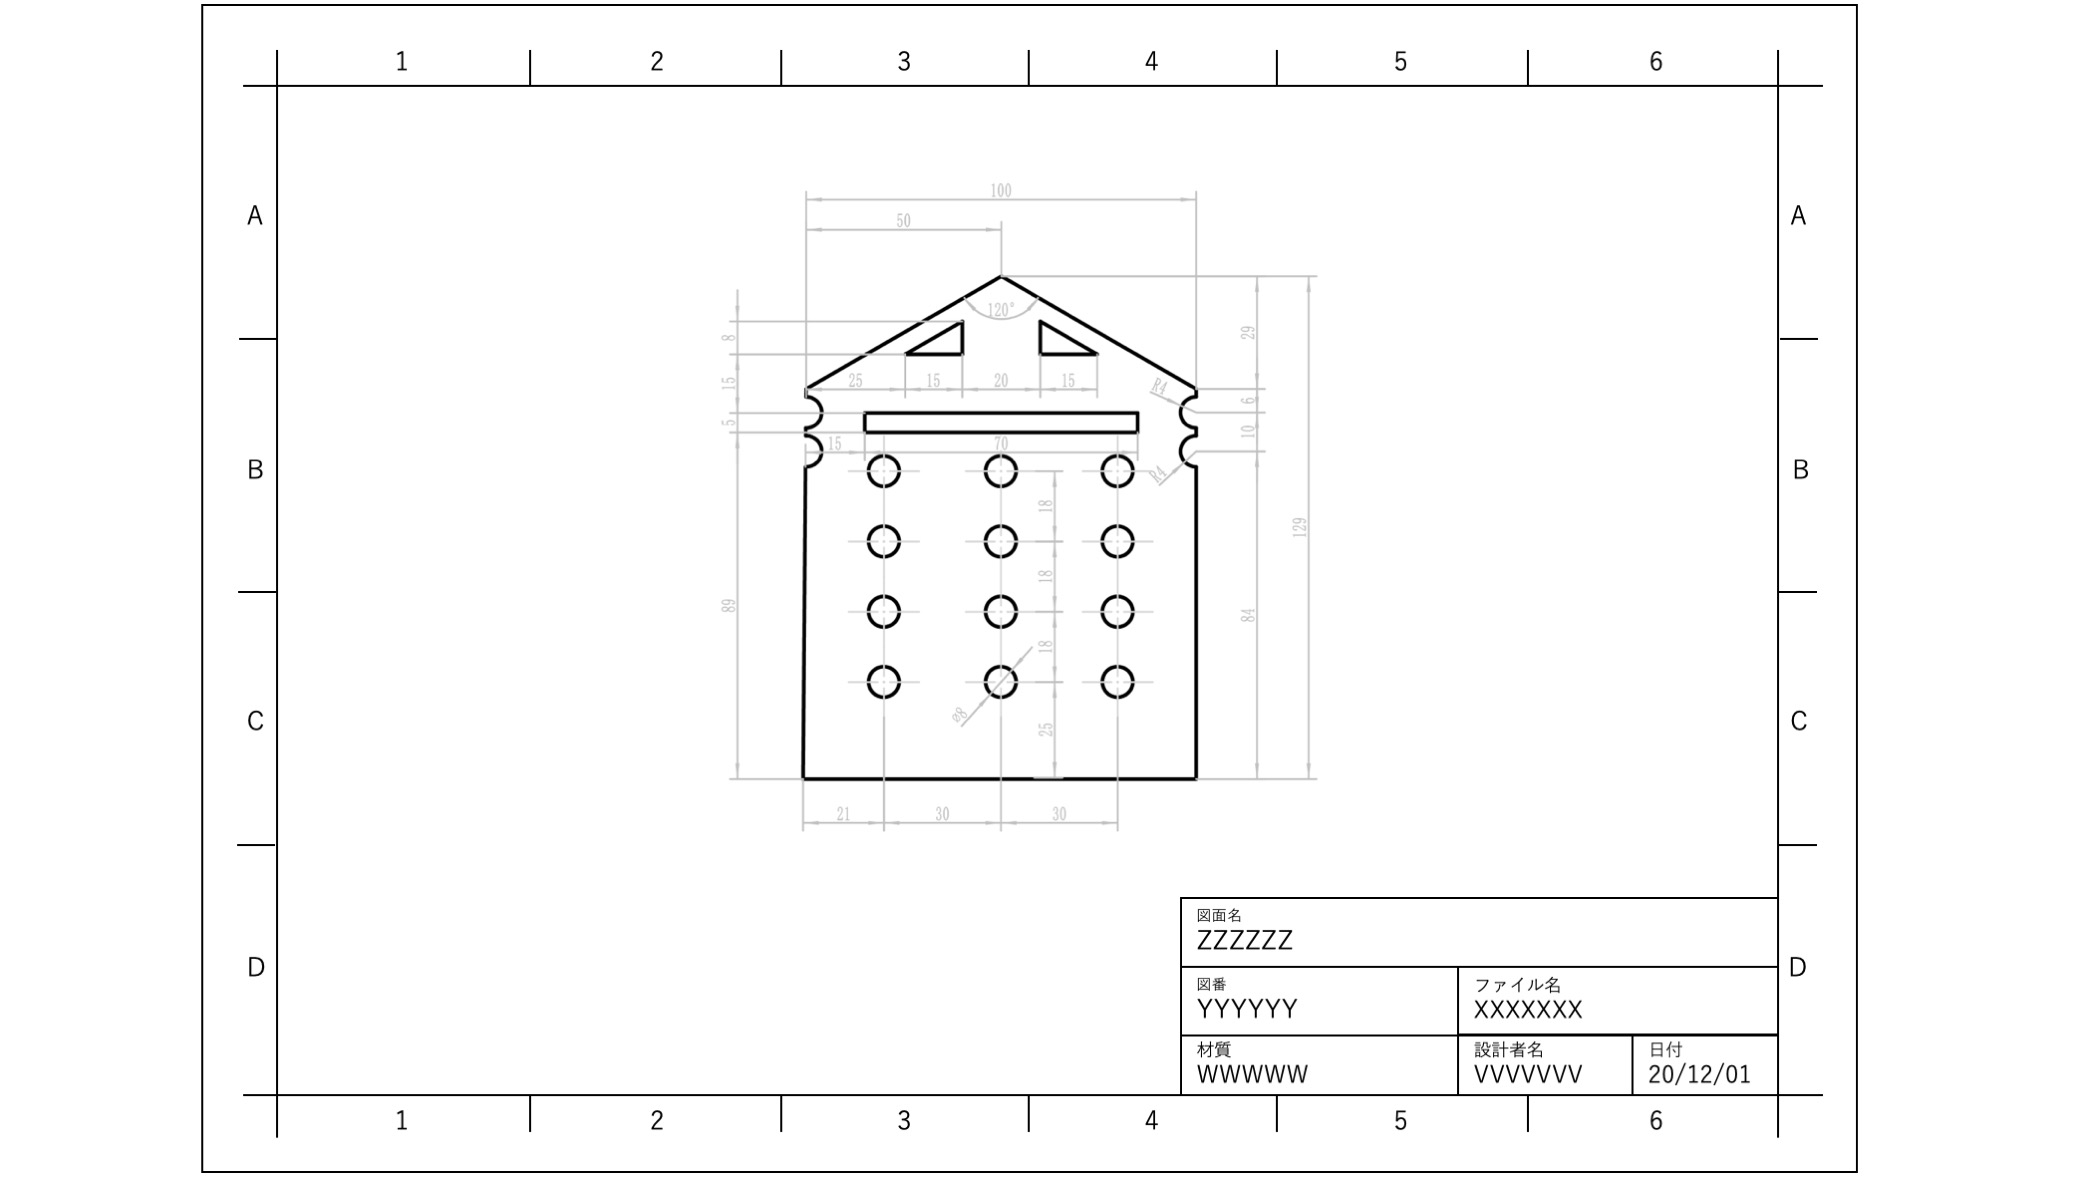circle: (860, 444, 901, 492), (979, 660, 1023, 704), (862, 662, 904, 707), (976, 450, 1025, 487), (979, 518, 1023, 559), (1096, 585, 1138, 629), (1098, 660, 1141, 701), (1098, 518, 1137, 559), (984, 590, 1020, 634), (862, 590, 901, 630), (862, 521, 901, 559), (1100, 450, 1137, 490)
rectangle: (858, 407, 1150, 437)
triangle: (1031, 316, 1100, 365), (901, 319, 968, 356)
